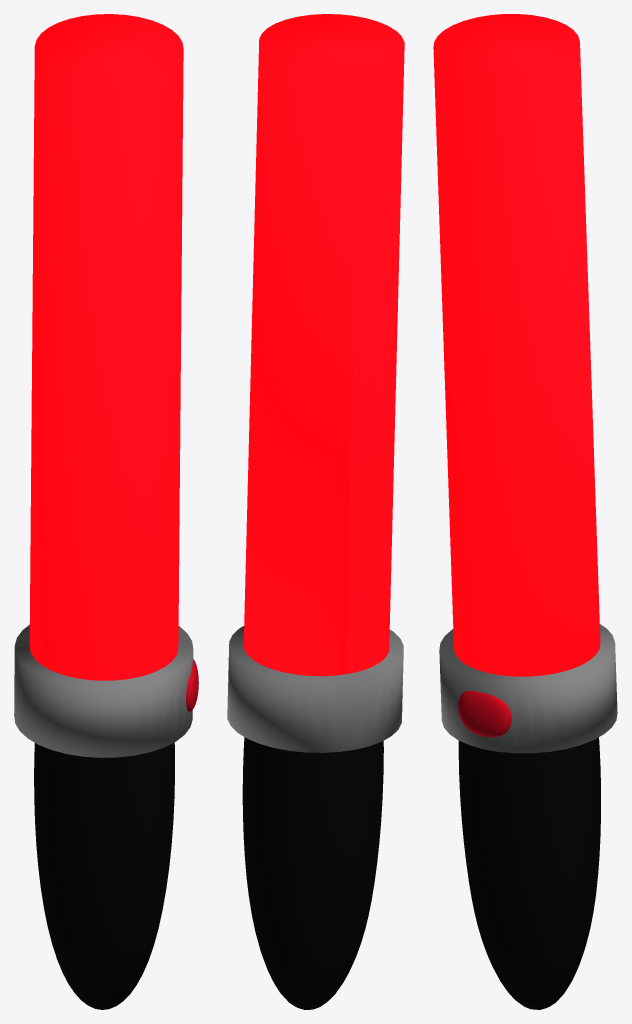
File: penlight(r).glb
The picture shows the model from 3 angles, left to right: view 1: azimuth 30°, elevation 25°; view 2: azimuth 150°, elevation 25°; view 3: azimuth 270°, elevation 25°; orthographic projection.
Visible parts, largest first — view 1: 立方体.001; view 2: 立方体.001; view 3: 立方体.001.
Boxes of the visible parts, bbox=[...] form: 立方体.001: bbox=[14, 14, 198, 1009]; 立方体.001: bbox=[227, 14, 404, 1009]; 立方体.001: bbox=[433, 14, 617, 1009].
Bounding box in the file's own units: 2.42 × 14.47 × 2.51.
